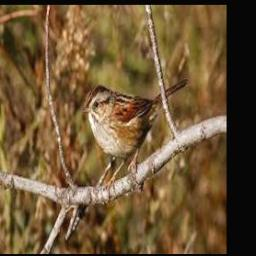Sparrow: (82, 80, 187, 200)
